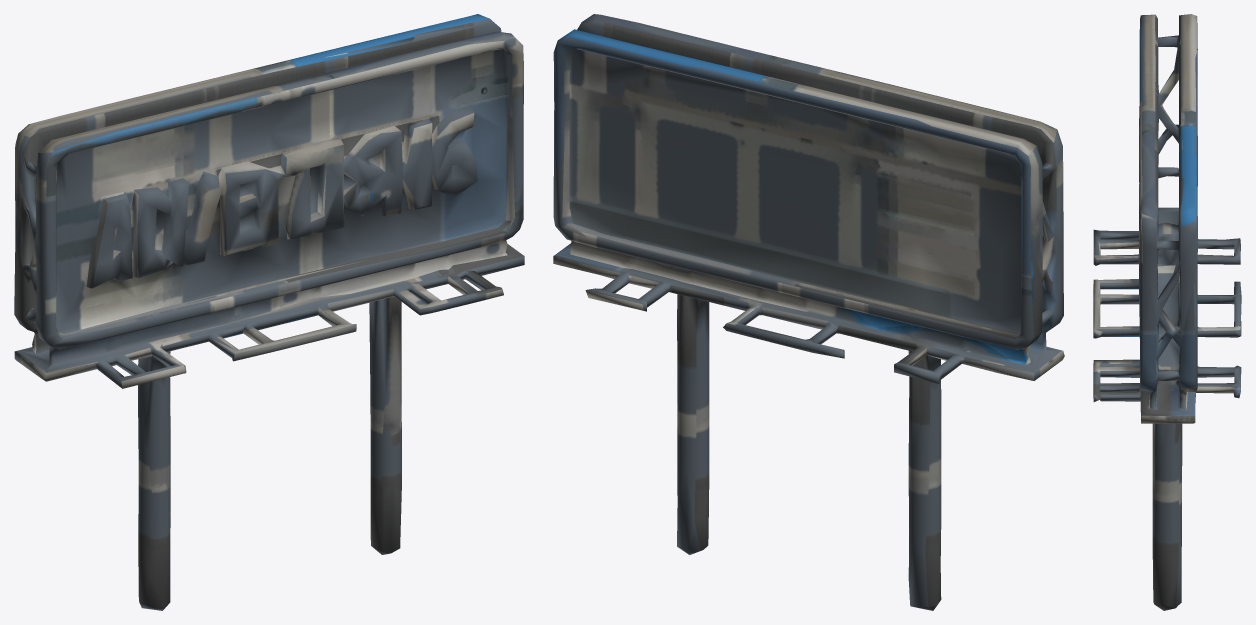
Rendered from Advertise.obj.
3 renders of one model, left to right at view 1: azimuth 30°, elevation 25°; view 2: azimuth 150°, elevation 25°; view 3: azimuth 270°, elevation 25°, orthographic. The views are drawn at different scales.
Visible parts, largest first — view 1: material_0; view 2: material_0; view 3: material_0.
Part boxes in pixels (left/top/right/bottom): material_0: left=14, top=14, right=524, bottom=610; material_0: left=553, top=14, right=1064, bottom=610; material_0: left=1093, top=14, right=1241, bottom=610.
Size of the model in its own units: 1 by 0.999 by 0.2998.
